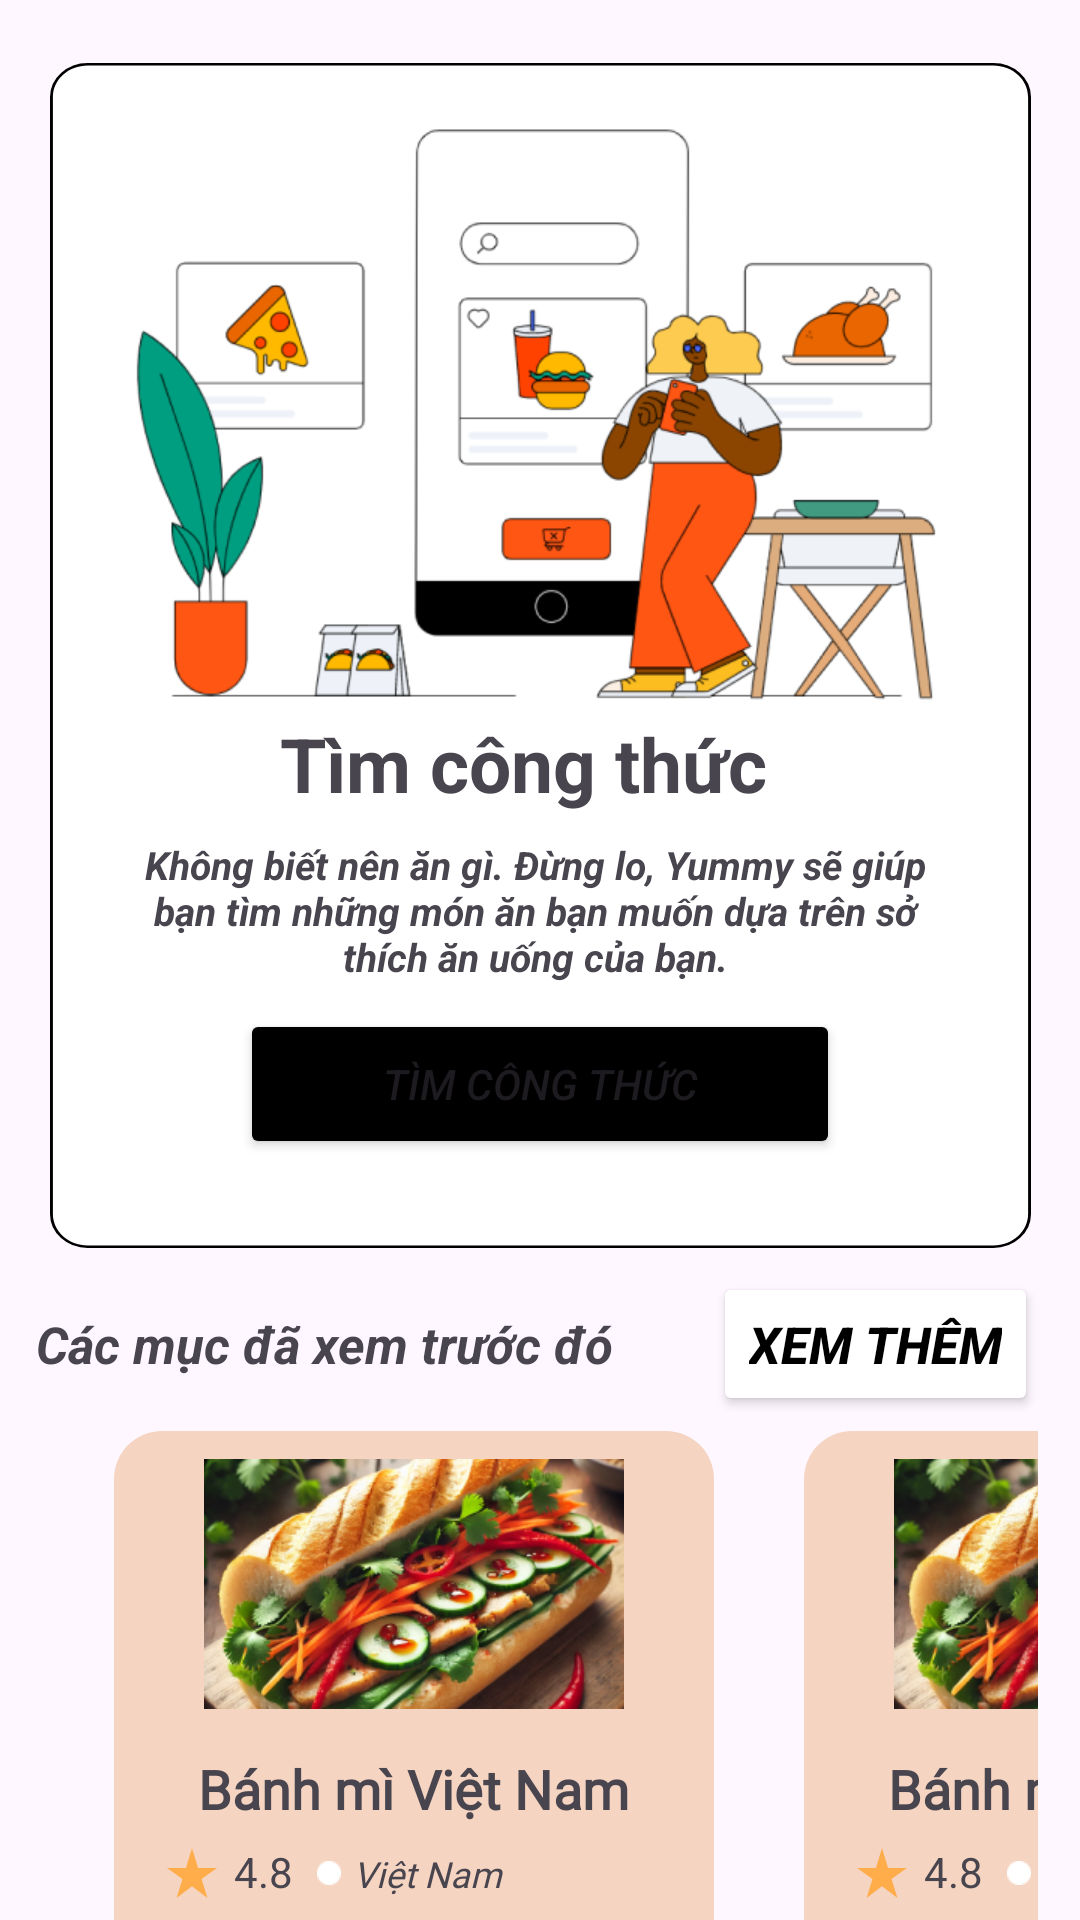

Icon bounding boxes for this 1080 × 1920 phone screenshot, format (x1, y1, x2, y2):
star: (167, 1849, 217, 1898), (857, 1849, 907, 1898)
